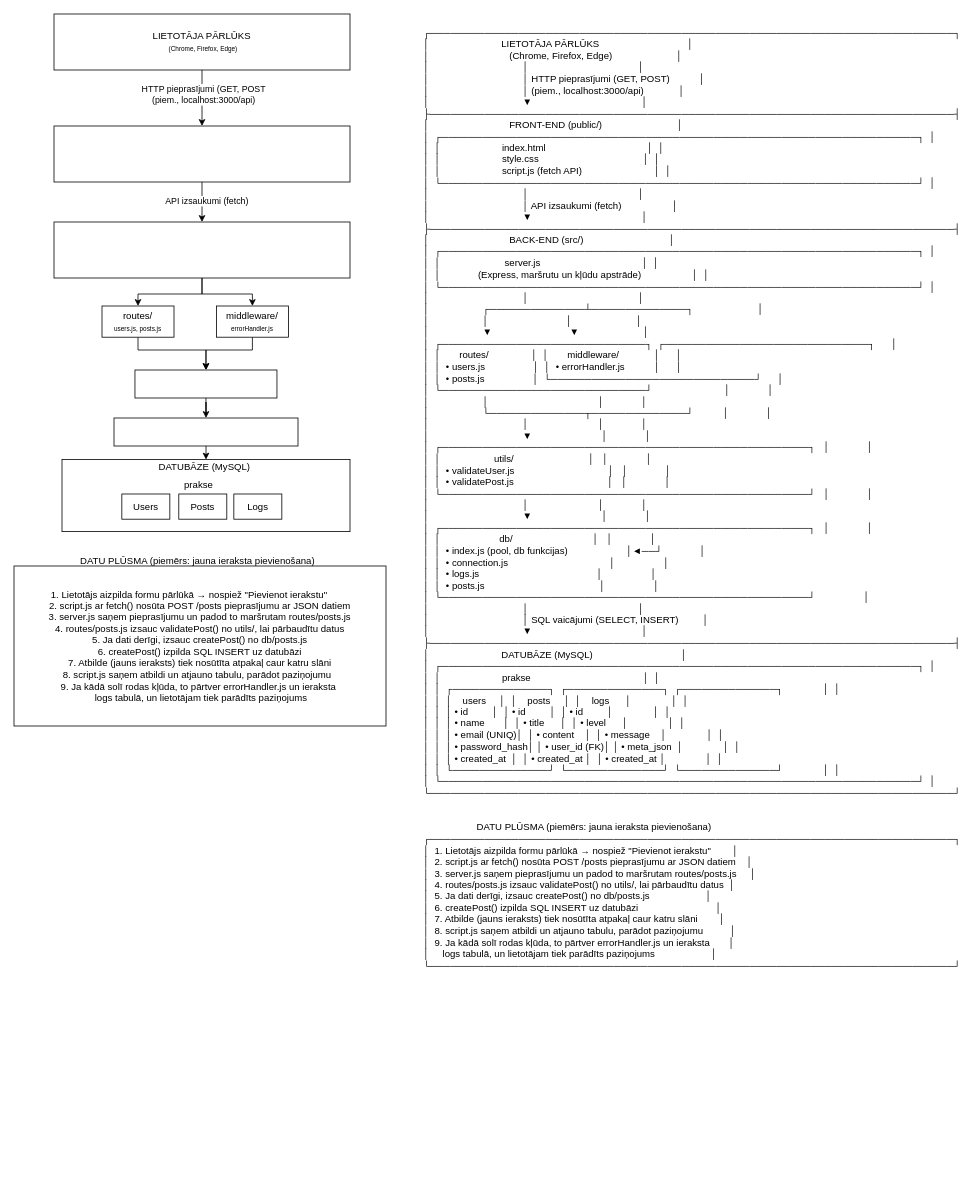
The diagram is 975 pixels wide and 1196 high, and some of its shapes have lost their labels. Here are the shapes that lost their labels. From the top down, the centre of each, then its label:
(201,153): FRONT-END (public/) index.html, style.css. script.js (fetch API)
(201,249): BACK-END (src/) server.js (Express, maršrutu un kļūdu apstrāde)
(205,383): utils/ validateUser.js, validatePost.js
(205,431): db/ index.js (pool, db funkcijas), connection.js, logs.js, posts.js
